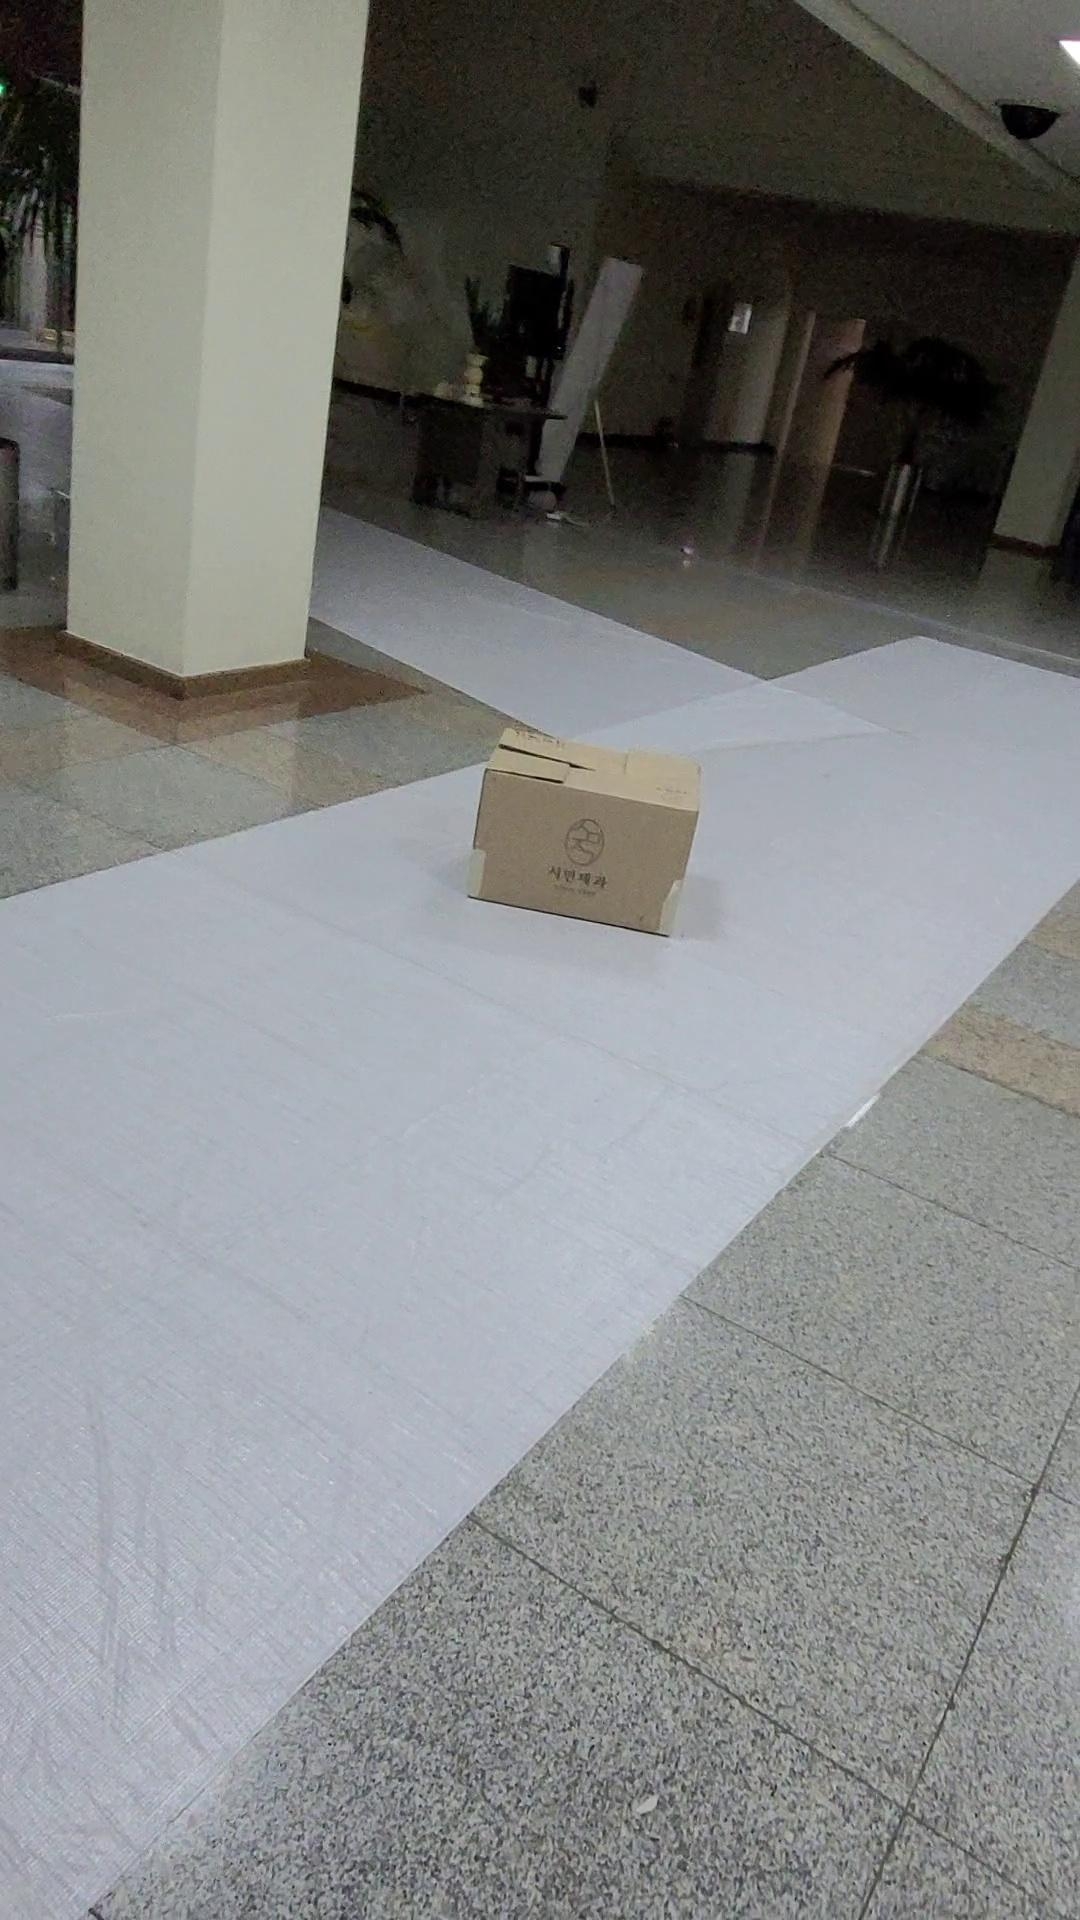Box: (448, 703, 732, 960)
